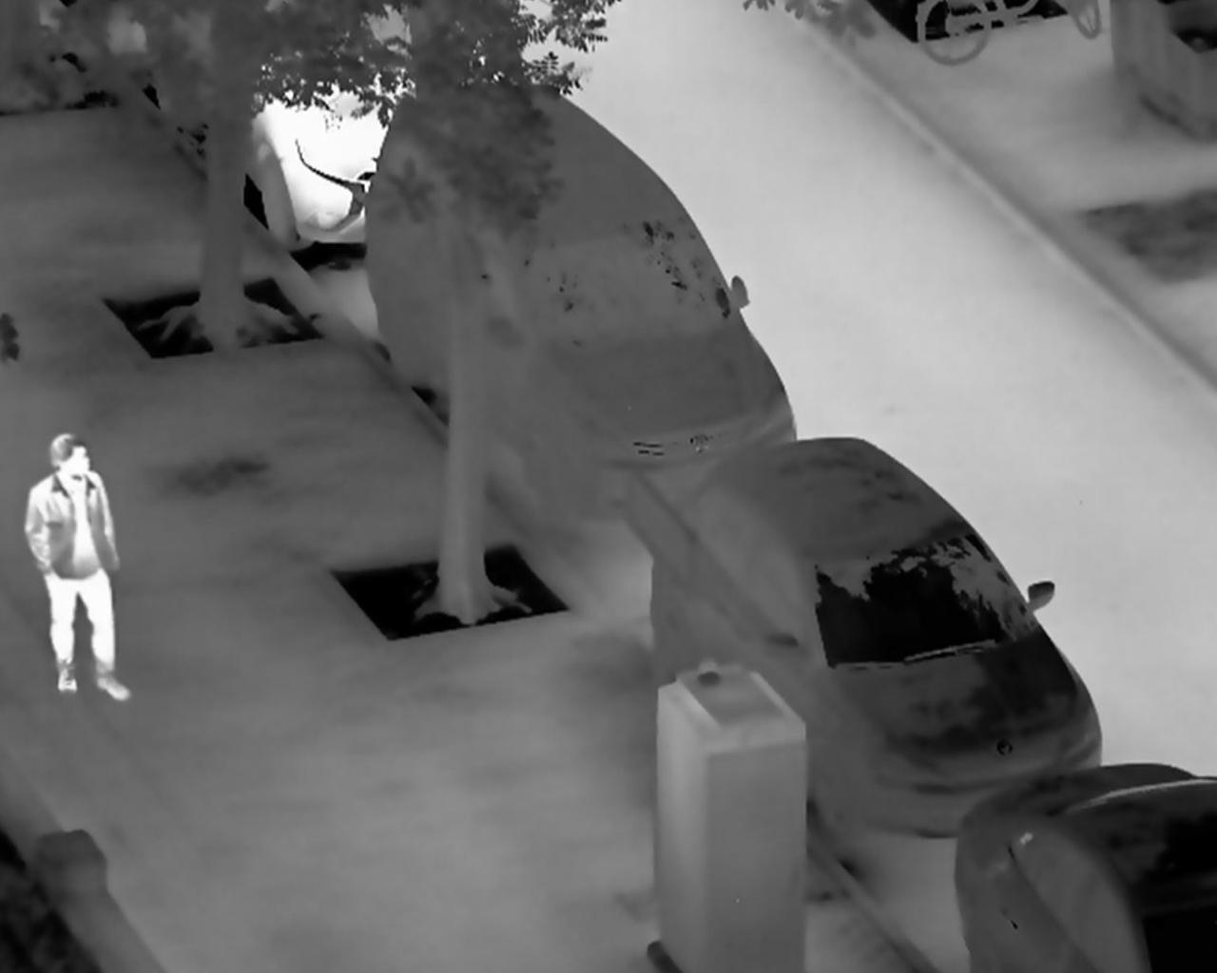person: (24, 431, 132, 705)
